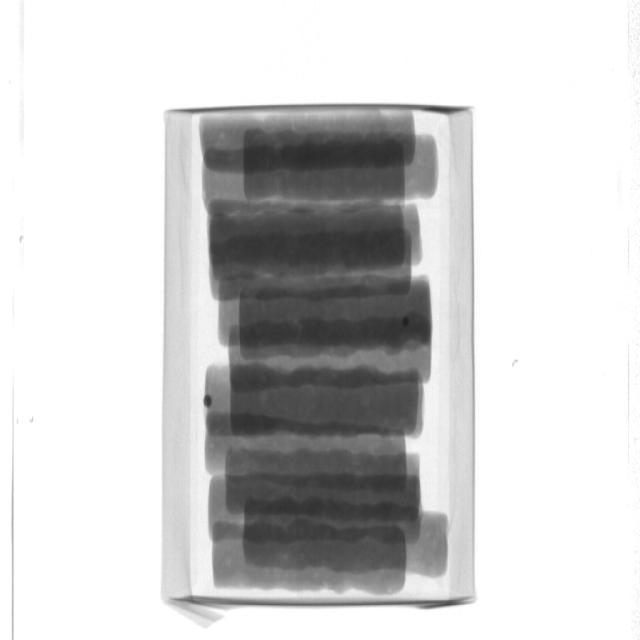ym: (204, 394, 215, 411), (403, 318, 410, 326)
